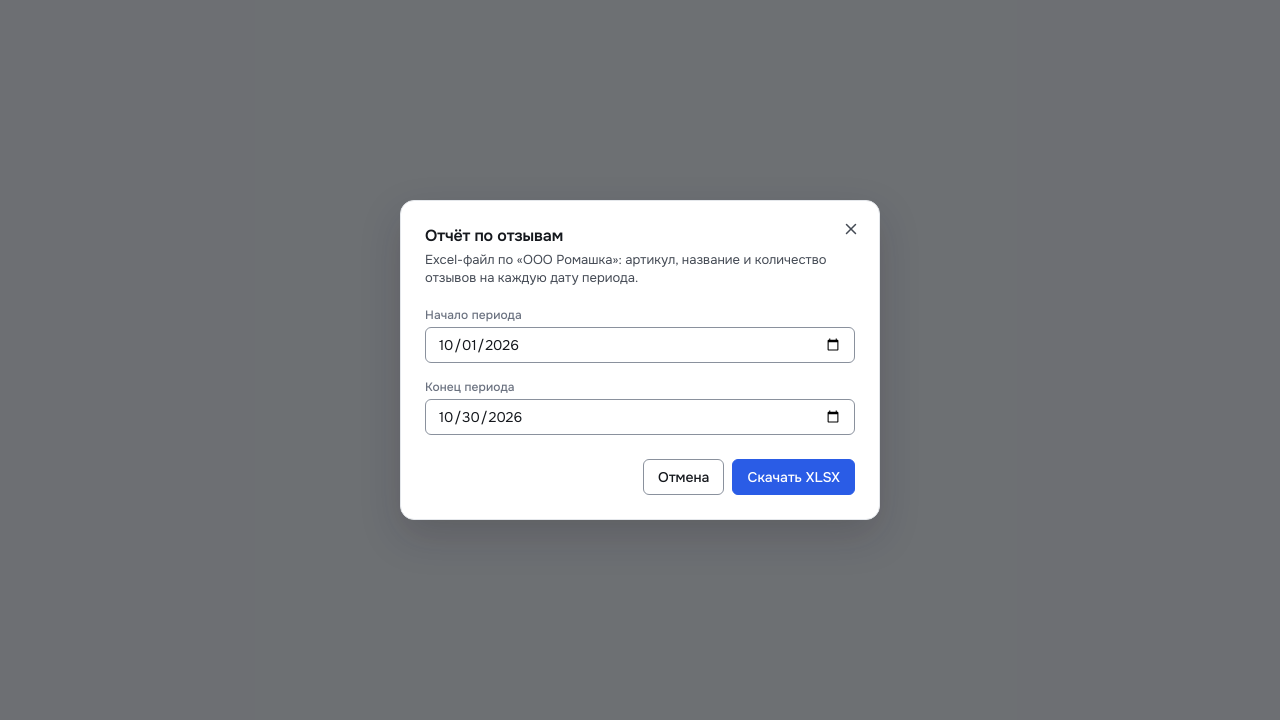
Test case: ReviewReportDialog › blocks a period that starts after it ends
Type "2026-08-28" into the date field labelled "Начало периода" at (640, 345), box [425,327,855,363]
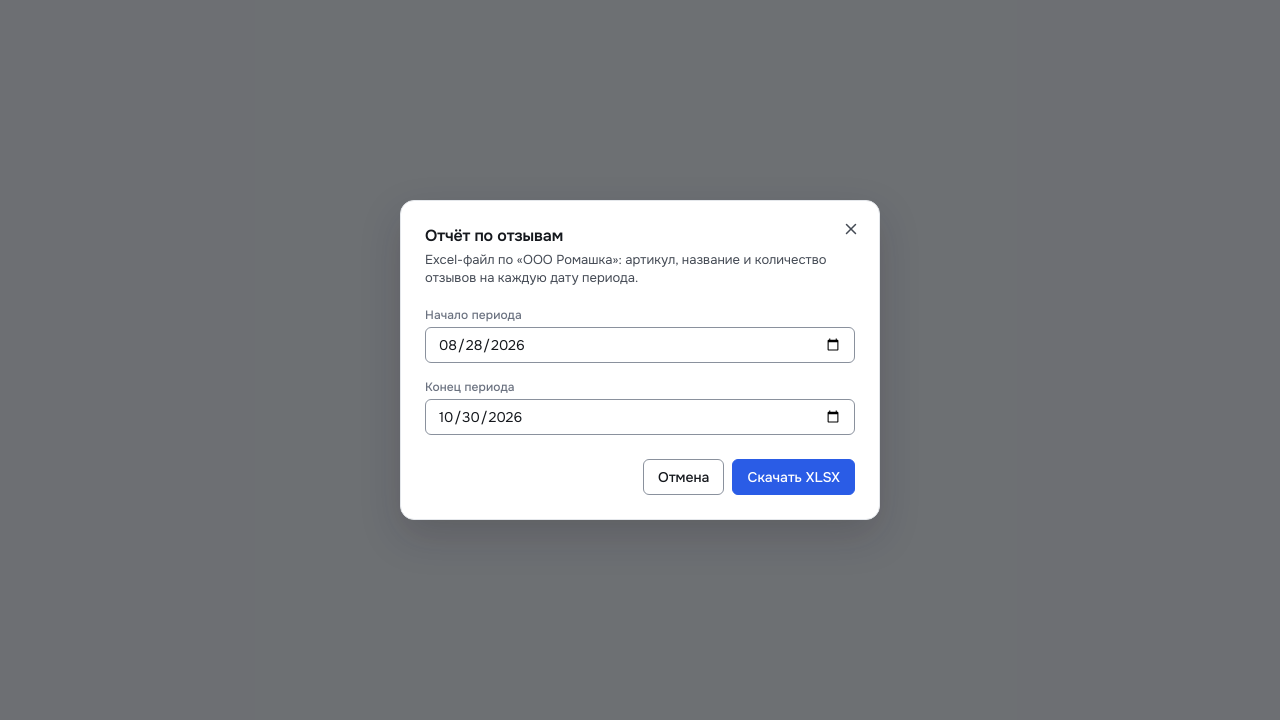
Type "2026-08-01" into the date field labelled "Конец периода" at (640, 417), box [425,399,855,435]
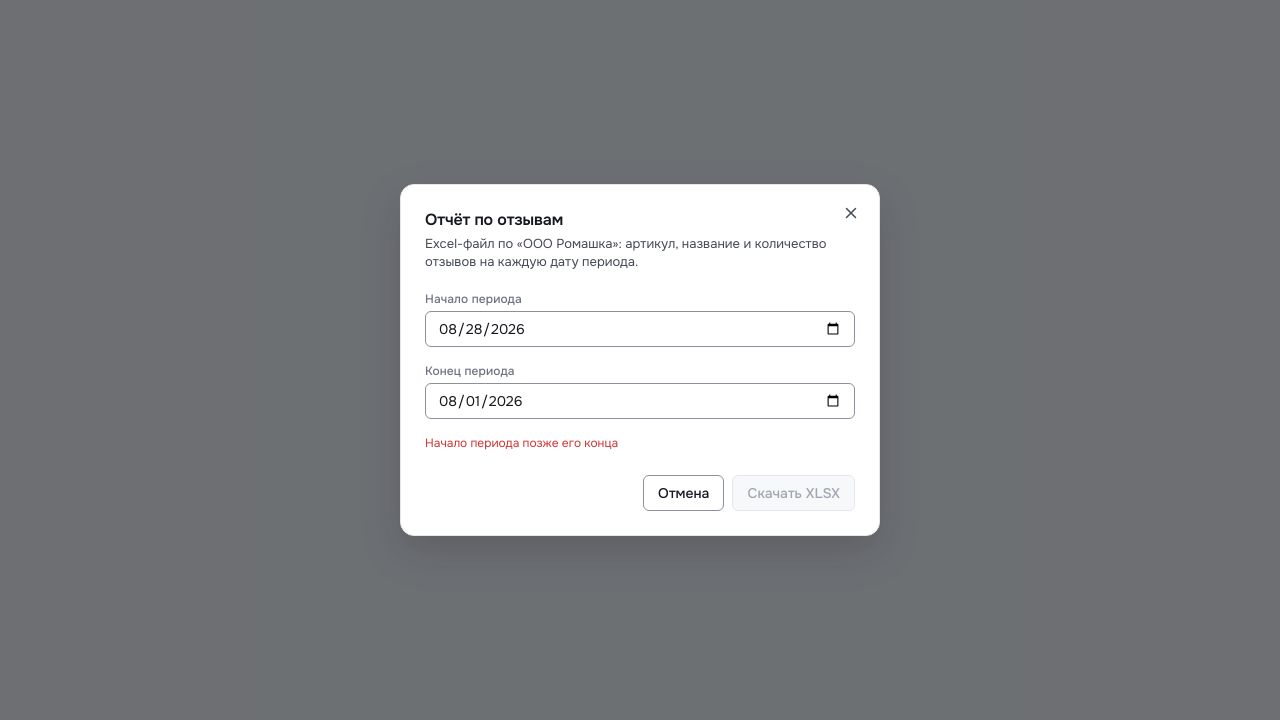
Result: the message reads "Начало периода позже его конца" at [425,435,618,451]
Result: the button "Скачать XLSX" is disabled at [732,475,855,511]
